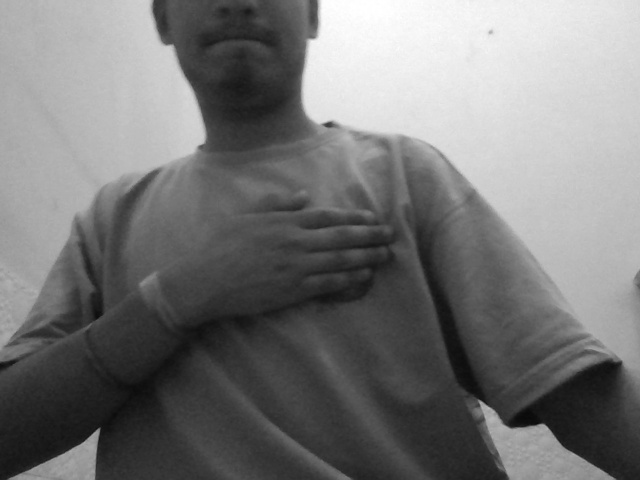Sorry: (160, 186, 407, 368)
